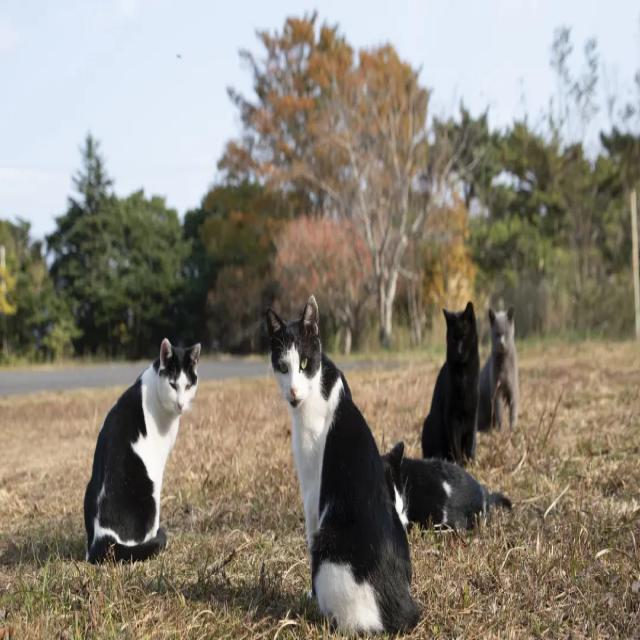cat: (266, 297, 420, 633), (84, 340, 199, 562), (381, 441, 511, 530), (421, 302, 480, 465), (478, 308, 519, 431)
